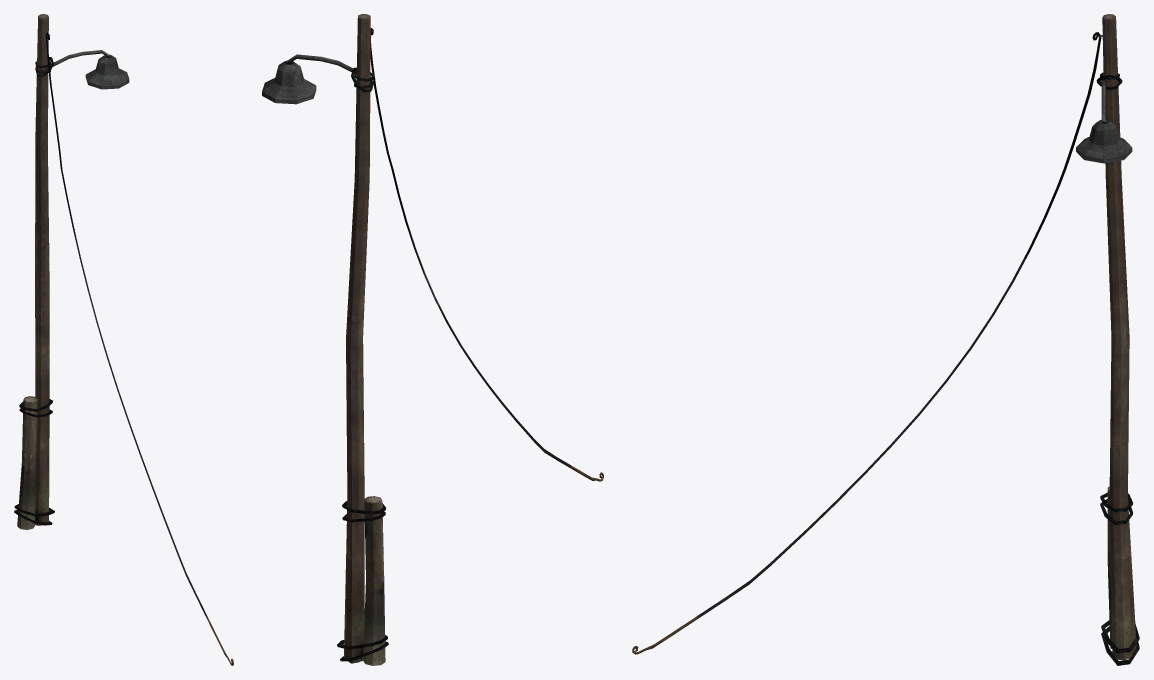
The model's file is lamp_01.glb.
The picture shows the model from 3 angles, left to right: view 1: azimuth 30°, elevation 25°; view 2: azimuth 150°, elevation 25°; view 3: azimuth 270°, elevation 25°; orthographic projection. The views are drawn at different scales.
Parts seen in each view (by area): view 1: lamp_01; view 2: lamp_01; view 3: lamp_01.
Boxes of the visible parts, x1,y1,x2,y2 form: lamp_01: [14, 14, 233, 665]; lamp_01: [262, 14, 603, 665]; lamp_01: [632, 14, 1139, 665].
Bounding box in the file's own units: 3.11 × 14.67 × 10.5.
1 material, 1 textured.
